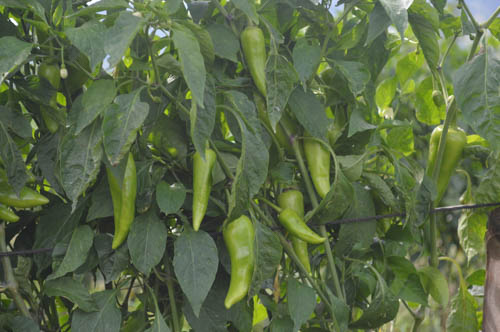ChiliPepper: (103, 156, 137, 252), (219, 218, 254, 310), (428, 128, 464, 204), (184, 150, 216, 232), (277, 192, 309, 265), (303, 133, 330, 197), (241, 29, 266, 91), (278, 213, 325, 242), (3, 181, 48, 206)
